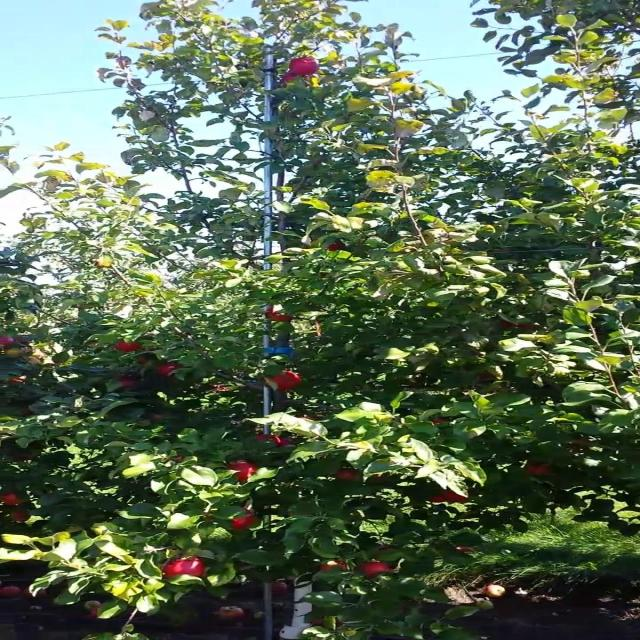apple: (163, 560, 206, 579), (269, 372, 304, 392), (227, 464, 260, 483), (234, 512, 261, 531), (362, 564, 396, 579), (291, 60, 320, 76), (255, 436, 292, 448), (497, 320, 539, 329), (269, 308, 293, 323), (525, 464, 555, 476), (156, 364, 183, 377), (113, 340, 142, 352), (319, 560, 348, 572), (433, 492, 459, 504), (6, 492, 25, 506), (447, 492, 469, 503), (333, 472, 363, 480), (433, 492, 453, 504), (6, 348, 28, 358), (284, 72, 302, 84), (120, 376, 137, 388), (6, 376, 28, 384), (326, 244, 347, 252), (13, 512, 28, 523), (6, 336, 20, 346), (13, 456, 36, 461), (447, 492, 460, 500), (141, 360, 149, 364)
